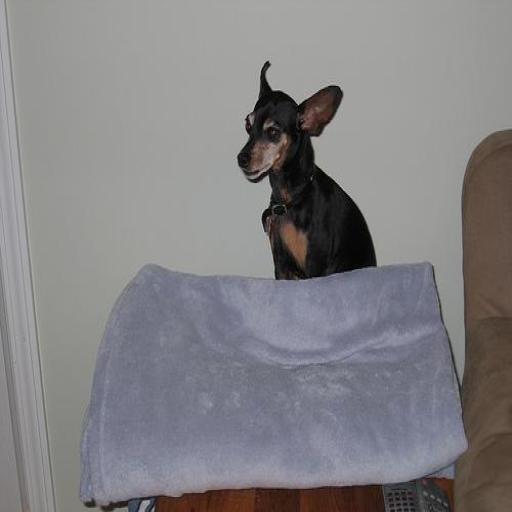dog_face: (239, 62, 339, 193)
